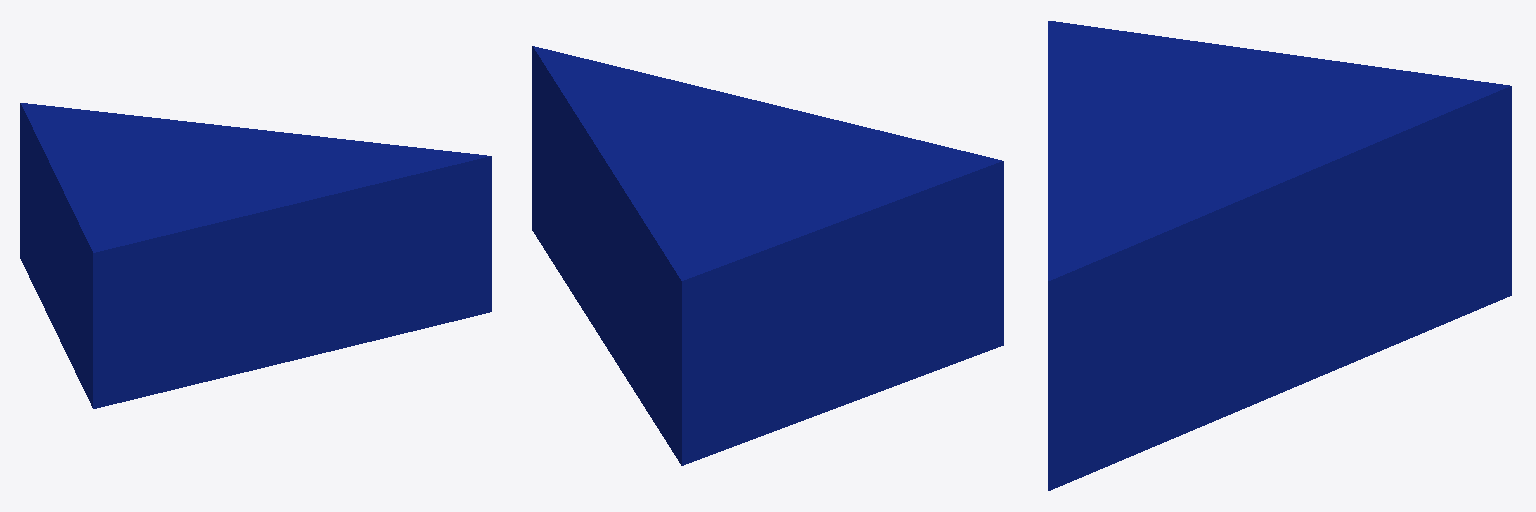
The robot description file, URDF, robot "block":
<robot name="block">
  <link name="block_base_link">
    <inertial>
      <origin rpy="0 0 0" xyz="-0.00667 0 0.015"/>
      <mass value="0.05"/>
      <inertia ixx="1.98e-05" ixy="-4.8e-06" ixz="0.0" iyy="2.62e-05" iyz="0.0" izz="3.52e-05"/>
    </inertial>
    <collision>
      
      <geometry>
        <mesh filename="18.STL" scale="1 1 1"/>
      </geometry>
    </collision>
    <visual>
 
      <geometry>
        <mesh filename="18.STL" scale="1 1 1"/>
      </geometry>
      <material name="tray_material">
        <color rgba="0.1 0.2 0.6 1"/>
      </material>
    </visual>
  </link>
</robot>

--- Render facts (derived) ---
3 views of the same robot in one strip: view 1: azimuth 30°, elevation 25°; view 2: azimuth 150°, elevation 25°; view 3: azimuth 270°, elevation 25° (orthographic).
Robot: block — 1 links, 0 joints (none); root link block_base_link; default pose: all joints at 0.
Links seen in each view (by area): view 1: block_base_link; view 2: block_base_link; view 3: block_base_link.
Boxes of the visible links, x1,y1,x2,y2 form: block_base_link: (20, 103, 491, 408); block_base_link: (532, 46, 1003, 465); block_base_link: (1048, 21, 1511, 490).
Size in the robot's own frame: 0.08 by 0.06 by 0.03 metres.
1 mesh visuals loaded from 1 distinct referenced files (1 binary STL).